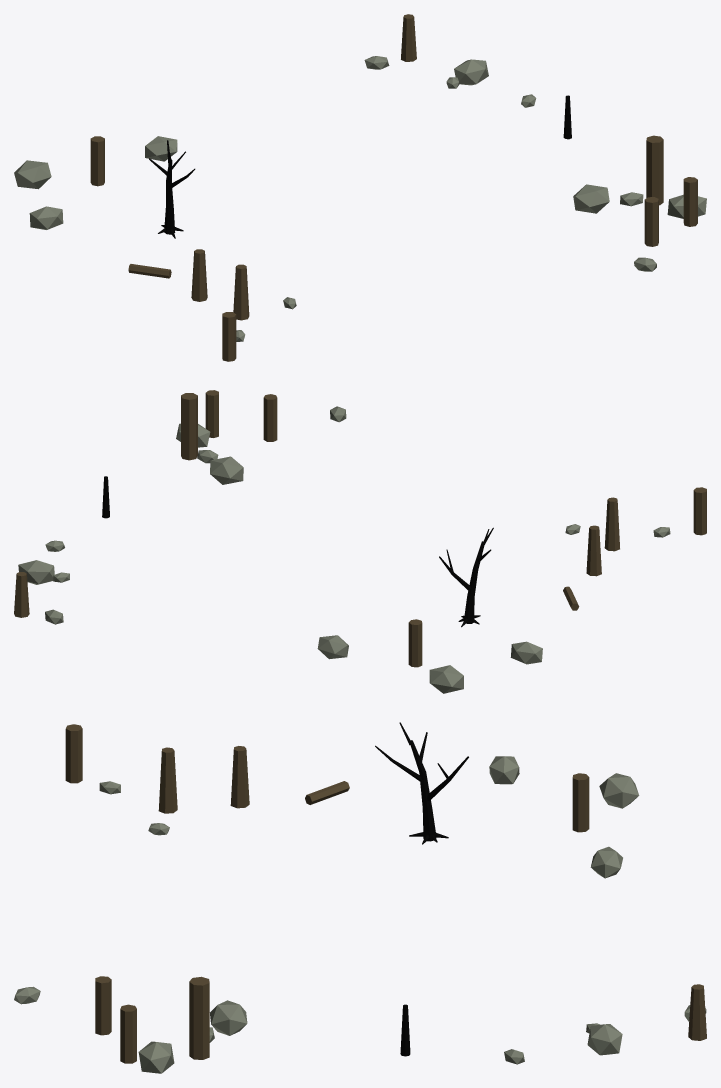
Rendered from longgrass_meadow_solid_props.fbx.
3 renders of one model, top to bottom at view 1: azimuth 30°, elevation 25°; view 2: azimuth 150°, elevation 25°; view 3: azimuth 270°, elevation 25°, orthographic. The views are drawn at different scales.
Visible parts, largest first — view 1: chunk_longgrass_meadow__PropsSolid; view 2: chunk_longgrass_meadow__PropsSolid; view 3: chunk_longgrass_meadow__PropsSolid.
Boxes of the visible parts, bbox=[...] form: chunk_longgrass_meadow__PropsSolid: bbox=[14, 14, 706, 361]; chunk_longgrass_meadow__PropsSolid: bbox=[14, 390, 706, 693]; chunk_longgrass_meadow__PropsSolid: bbox=[14, 722, 706, 1073].
Bounding box in the file's own units: 175 × 29.82 × 168.
